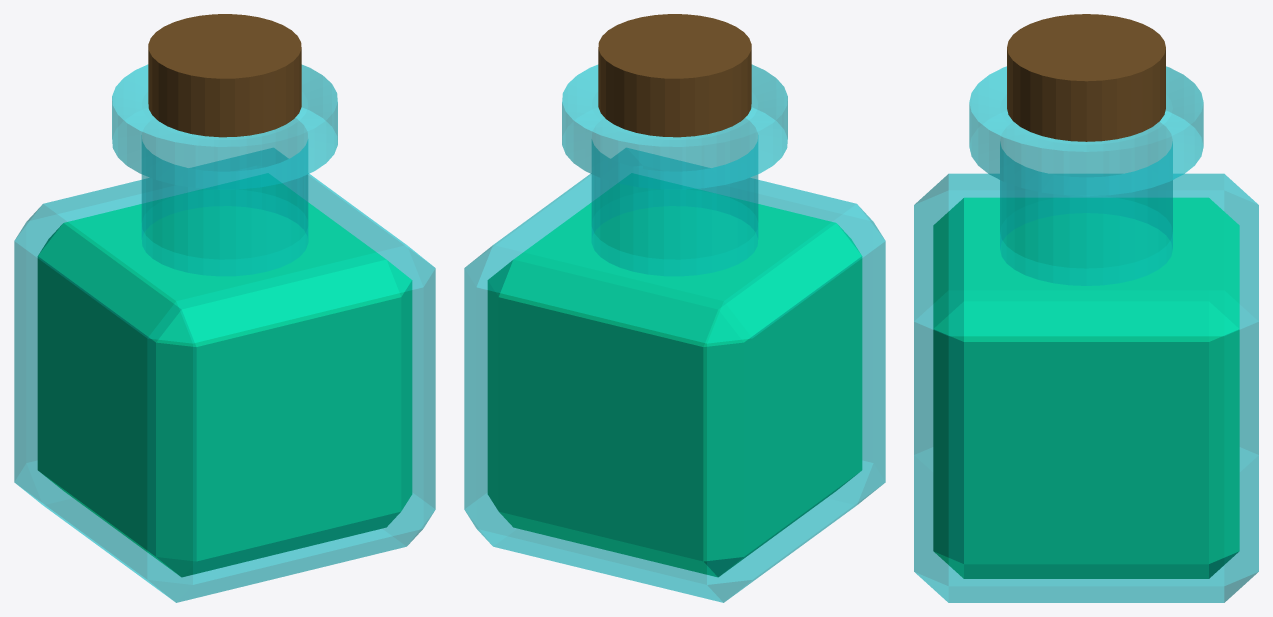
Rendered from SquareFlaskHD.fbx.
The picture shows the model from 3 angles, left to right: view 1: azimuth 30°, elevation 25°; view 2: azimuth 150°, elevation 25°; view 3: azimuth 270°, elevation 25°; orthographic projection. The views are drawn at different scales.
Parts seen in each view (by area): view 1: RecipienteRedondo; view 2: RecipienteRedondo; view 3: RecipienteRedondo.
Boxes of the visible parts, x1=… form: RecipienteRedondo: x1=14, y1=14, x2=435, y2=602; RecipienteRedondo: x1=464, y1=14, x2=885, y2=602; RecipienteRedondo: x1=914, y1=14, x2=1258, y2=602.
Size of the model in its own units: 155 by 247 by 155.
